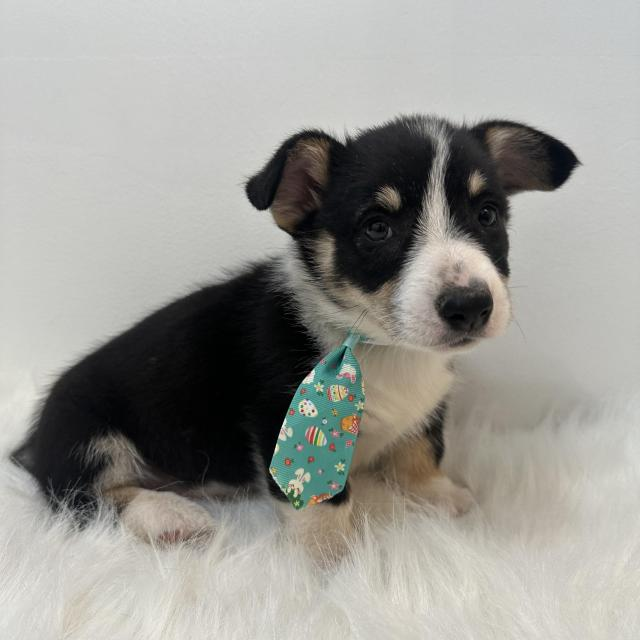corgi_dog: (239, 108, 584, 370)
